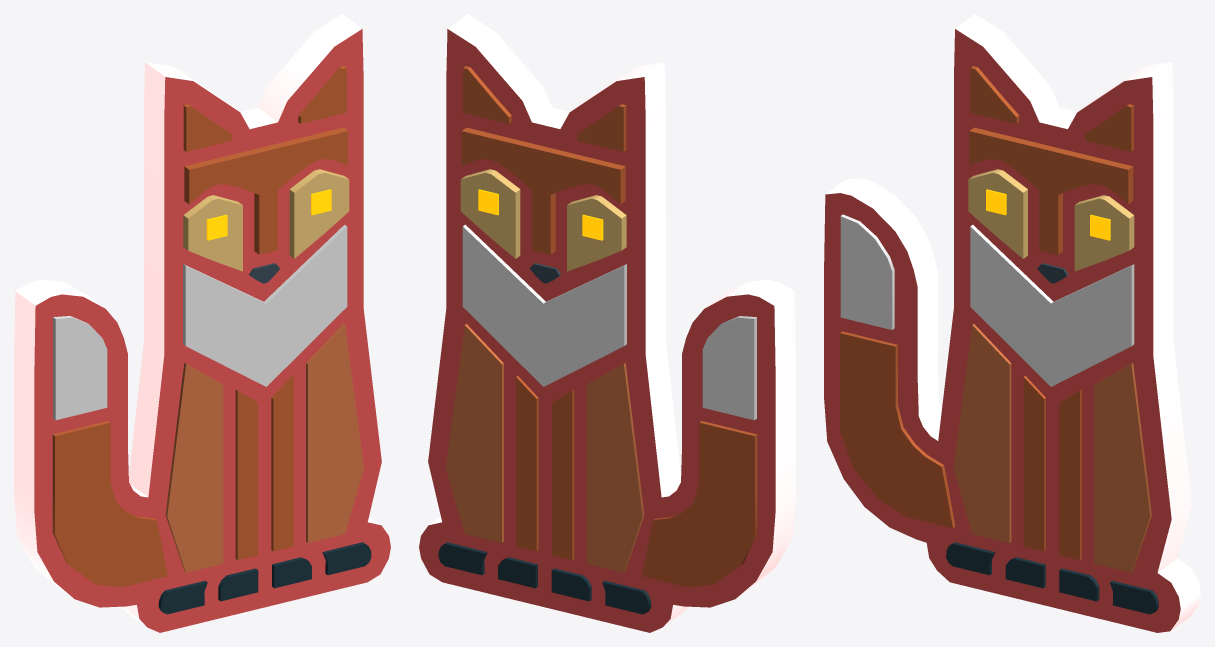
Rendered from Fox_Marking_Kindle_Updated.fbx.
The picture shows the model from 3 angles, left to right: view 1: azimuth 30°, elevation 25°; view 2: azimuth 150°, elevation 25°; view 3: azimuth 330°, elevation 25°; orthographic projection.
Visible parts, largest first — view 1: Fox - Wood Base; view 2: Fox - Wood Base; view 3: Fox - Wood Base.
Boxes of the visible parts, <box> form: Fox - Wood Base: <box>14,14,390,632</box>; Fox - Wood Base: <box>419,14,795,632</box>; Fox - Wood Base: <box>824,14,1200,632</box>.
Bounding box in the file's own units: 319 × 474 × 49.53.
